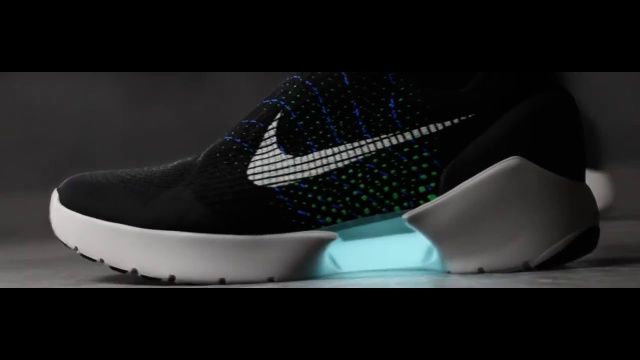nike: (239, 111, 486, 192)
